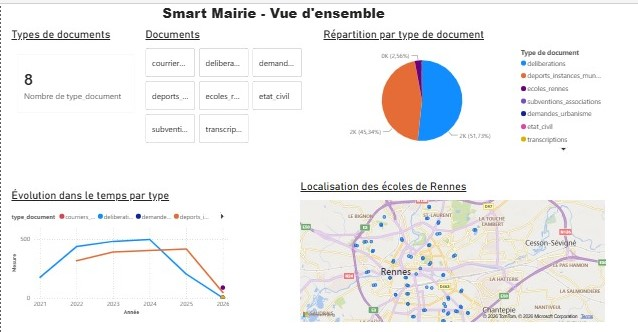

The page's visual inventory and layout, read from the dashboard file:
{"tool":"powerbi","page":{"name":"Page 1","canvas":[1280,720],"ordinal":0},"visuals":[{"type":"cardVisual","title":"Types de documents ","fields":{"Data":["Count(metadonnees.type_document)"]},"box":[15,93.3,268.6,187.1],"z":0},{"type":"pieChart","title":"Répartition par type de document","fields":{"Y":["metadonnees.Mesure"],"Category":["metadonnees.type_document"]},"box":[640,94.1,574.5,255.3],"z":1000},{"type":"lineChart","title":"Évolution dans le temps par type","fields":{"Category":["metadonnees.date.Variation.Hiérarchie de dates.Année","metadonnees.date.Variation.Hiérarchie de dates.Trimestre","metadonnees.date.Variation.Hiérarchie de dates.Mois","metadonnees.date.Variation.Hiérarchie de dates.Jour"],"Y":["metadonnees.Mesure"],"Series":["metadonnees.type_document"]},"box":[15,415,445.7,257.1],"z":2000},{"type":"map","title":"Localisation des écoles de Rennes","fields":{"Y":["ecoles_rennes.latitude"],"X":["ecoles_rennes.longitude"]},"box":[594.6,398.1,619.8,288.9],"z":3000},{"type":"textbox","box":[318,40,476.7,53.3],"z":4000},{"type":"advancedSlicerVisual","title":"Documents","fields":{"Values":["metadonnees.type_document"]},"box":[284,94,325.9,236.9],"z":5000}]}

Visuals, with their boxes on the page's 1280x720 design canvas (x1, y1, x2, y2). These are canvas units, not pixel positions in the 638x332 screenshot, which may show the page scaled, cropped or inside an application window:
"Types de documents " cardVisual: 15, 93, 284, 280
"Répartition par type de document" pieChart: 640, 94, 1214, 349
"Évolution dans le temps par type" lineChart: 15, 415, 461, 672
"Localisation des écoles de Rennes" map: 595, 398, 1214, 687
textbox: 318, 40, 795, 93
"Documents" advancedSlicerVisual: 284, 94, 610, 331
